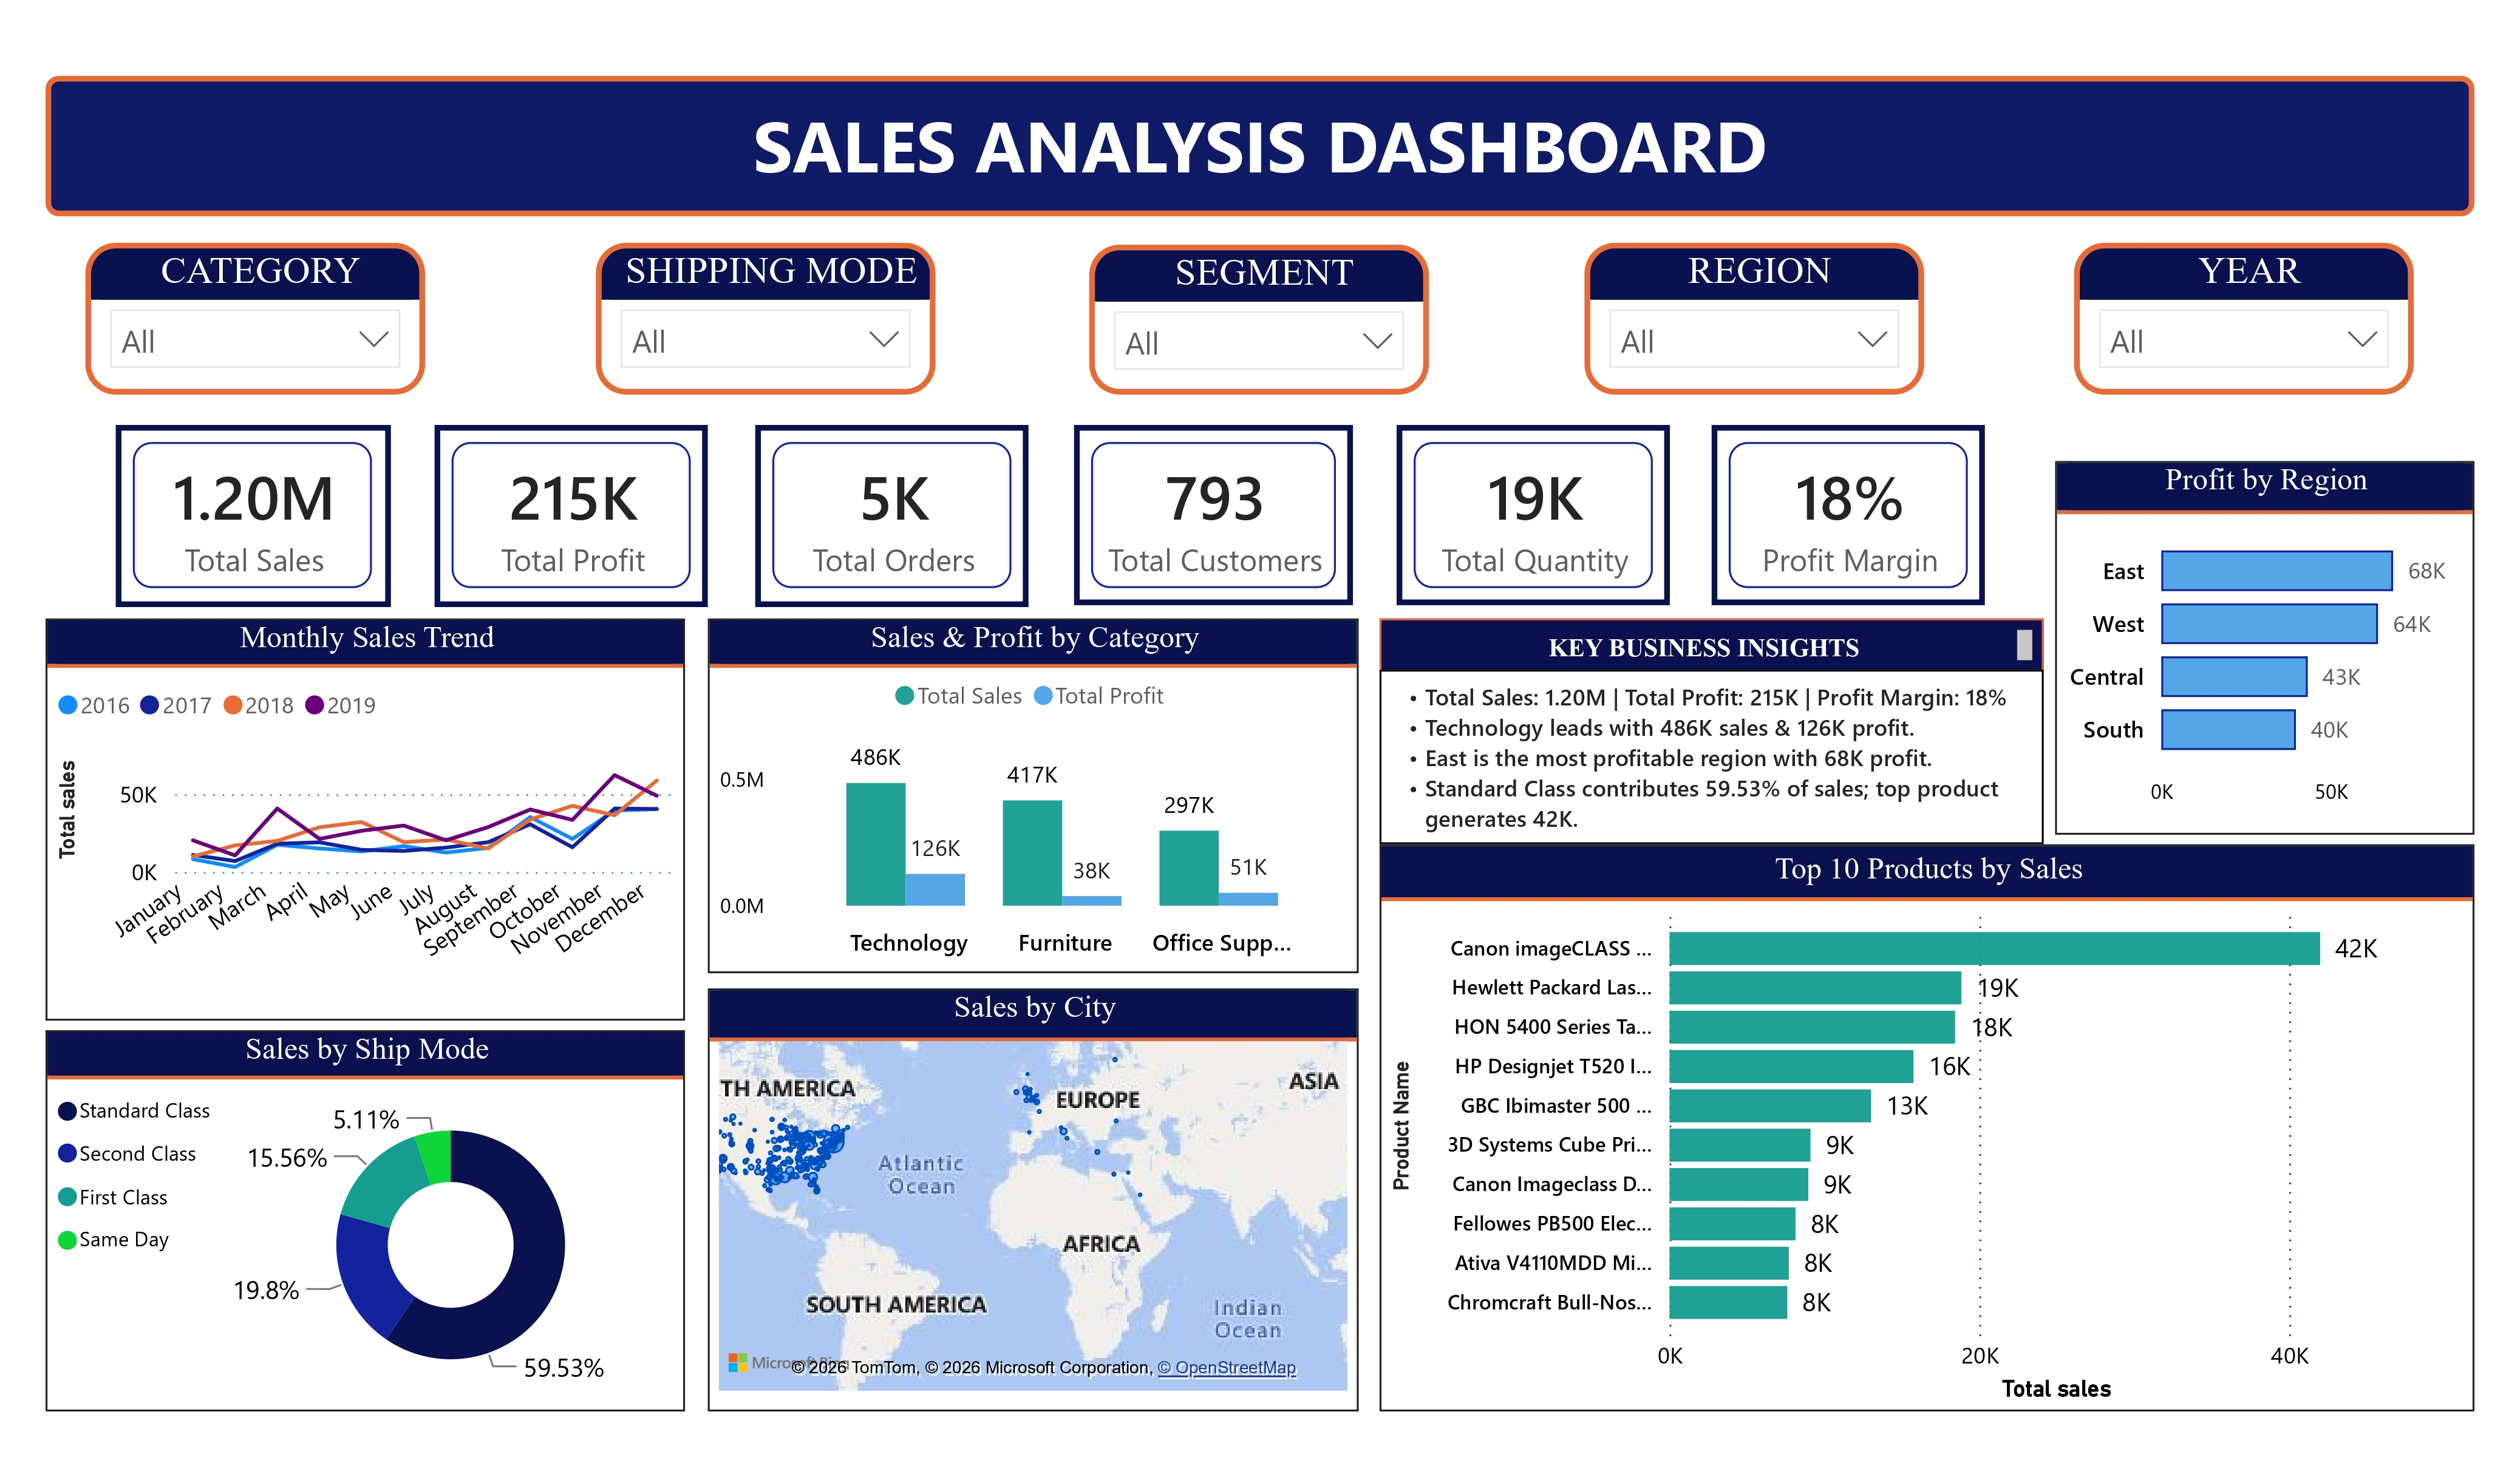

The page's visual inventory and layout, read from the dashboard file:
{"tool":"powerbi","page":{"name":"sales analysis dashboard","canvas":[1280,720],"ordinal":0},"visuals":[{"type":"textbox","box":[0,16.2,1280,73.8],"z":0},{"type":"slicer","title":"YEAR","fields":{"Values":["Sales.order year"]},"box":[1068.9,103.8,179,80],"z":1000},{"type":"slicer","title":"REGION","fields":{"Values":["Sales.Region"]},"box":[810.7,103.8,179.8,80],"z":2000},{"type":"slicer","title":"CATEGORY","fields":{"Values":["Sales.Category"]},"box":[20.5,103.8,179,80],"z":3000},{"type":"slicer","title":"SHIPPING MODE","fields":{"Values":["Sales.Ship Mode"]},"box":[289.5,103.8,179,80],"z":4000},{"type":"slicer","title":"SEGMENT","fields":{"Values":["Sales.Segment"]},"box":[550.1,105,179,79],"z":5000},{"type":"cardVisual","fields":{"Data":["Sales.Total Sales"]},"box":[37.4,200.3,144.4,95.8],"z":6000},{"type":"cardVisual","fields":{"Data":["Sales.Total Quantity"]},"box":[711.8,200.3,144,95],"z":7000},{"type":"cardVisual","fields":{"Data":["Sales.total profit"]},"box":[205.1,200.3,144,95.8],"z":8000},{"type":"cardVisual","fields":{"Data":["Sales.Total Orders"]},"box":[374,200.3,144,95.8],"z":9000},{"type":"cardVisual","fields":{"Data":["Sales.Total Customers"]},"box":[542,200.3,147,95],"z":10000},{"type":"cardVisual","fields":{"Data":["Sales.Profit Margin %"]},"box":[878.3,200.3,144,95],"z":11000},{"type":"lineChart","title":"Monthly Sales Trend","fields":{"Y":["Sales.Total Sales"],"Category":["Sales.order Month"],"Series":["Sales.order year"]},"box":[0,301.6,336.6,212.3],"z":12000},{"type":"clusteredColumnChart","title":"Sales & Profit by Category","fields":{"Category":["Sales.Category"],"Y":["Sales.Total Sales","Sales.total profit"]},"box":[348.7,301.6,343.8,187],"z":13000},{"type":"clusteredBarChart","title":"Profit by Region","fields":{"Category":["Sales.Region"],"Y":["Sales.total profit"]},"box":[1058.6,218.6,221.4,197.1],"z":14000},{"type":"donutChart","title":"Sales by Ship Mode","fields":{"Category":["Sales.Ship Mode"],"Y":["Sales.Ship Mode Sales"]},"box":[0,518.8,336.6,201.5],"z":15000},{"type":"clusteredBarChart","title":"Top 10 Products by Sales","fields":{"Category":["Sales.Product Name"],"Y":["Sales.Total Sales"]},"box":[702.9,421.4,577.1,298.6],"z":16000},{"type":"map","title":"Sales by City","fields":{"Category":["Sales.City"],"Size":["Sales.Total Sales"]},"box":[348.7,497.1,343.8,223.2],"z":17000},{"type":"textbox","box":[703.4,301.6,349.9,28],"z":18000},{"type":"textbox","box":[703.4,329.4,349.9,91.7],"z":19000}]}

Visuals, with their boxes in screenshot pixels (x1, y1, x2, y2):
textbox: box(52, 76, 2450, 214)
"YEAR" slicer: box(2054, 240, 2389, 390)
"REGION" slicer: box(1571, 240, 1907, 390)
"CATEGORY" slicer: box(91, 240, 426, 390)
"SHIPPING MODE" slicer: box(594, 240, 930, 390)
"SEGMENT" slicer: box(1083, 242, 1418, 390)
cardVisual - Sales.Total Sales: box(123, 421, 393, 600)
cardVisual - Sales.Total Quantity: box(1386, 421, 1655, 599)
cardVisual - Sales.total profit: box(437, 421, 706, 600)
cardVisual - Sales.Total Orders: box(753, 421, 1023, 600)
cardVisual - Sales.Total Customers: box(1068, 421, 1343, 599)
cardVisual - Sales.Profit Margin %: box(1697, 421, 1967, 599)
"Monthly Sales Trend" lineChart: box(52, 611, 683, 1008)
"Sales & Profit by Category" clusteredColumnChart: box(706, 611, 1349, 961)
"Profit by Region" clusteredBarChart: box(2035, 455, 2450, 824)
"Sales by Ship Mode" donutChart: box(52, 1017, 683, 1394)
"Top 10 Products by Sales" clusteredBarChart: box(1369, 835, 2450, 1394)
"Sales by City" map: box(706, 977, 1349, 1394)
textbox: box(1370, 611, 2025, 663)
textbox: box(1370, 663, 2025, 834)
